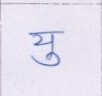u_matra: (32, 51, 62, 68)
